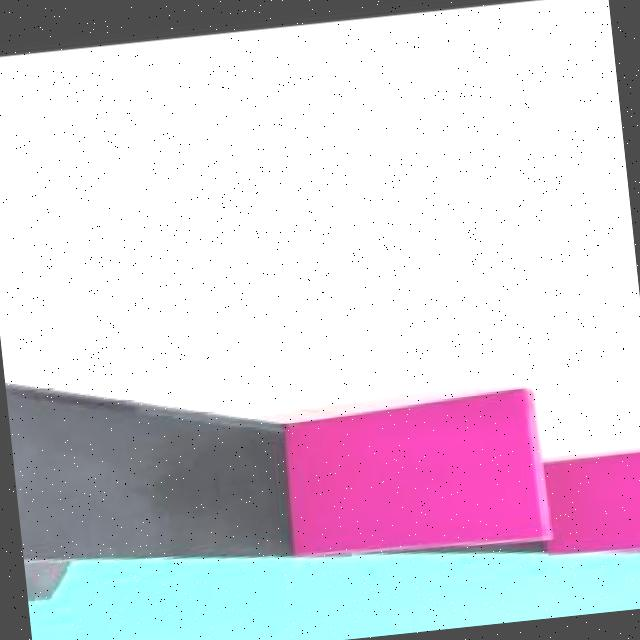xparking: (284, 390, 538, 555), (547, 452, 640, 554)
